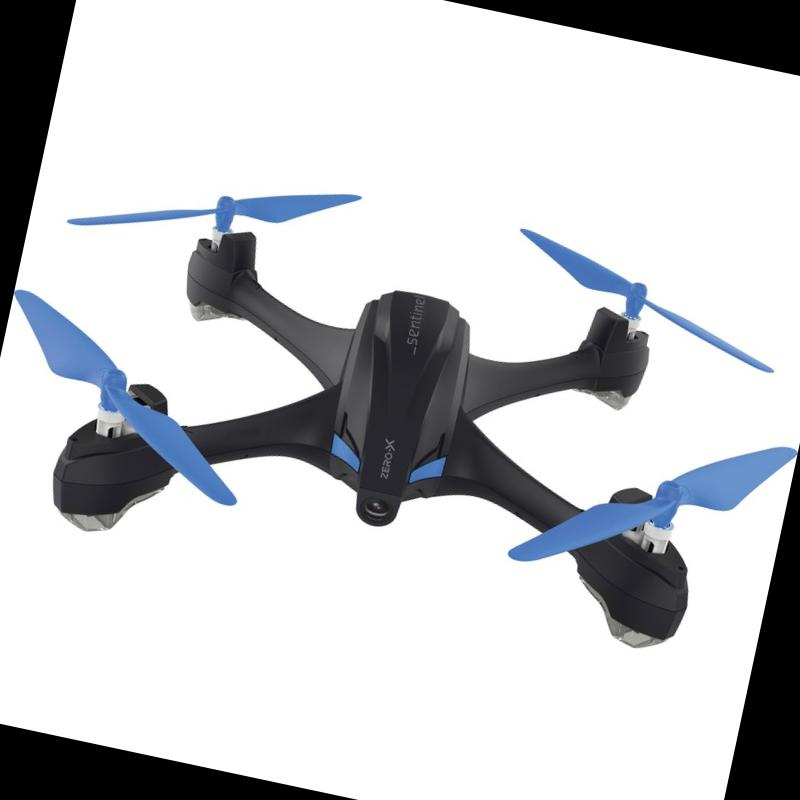drone: (0, 138, 800, 681)
